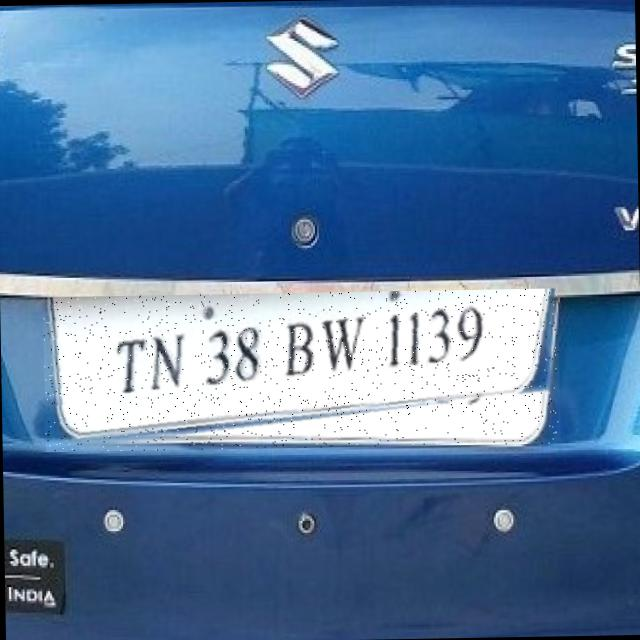Plate: (44, 289, 562, 453)
